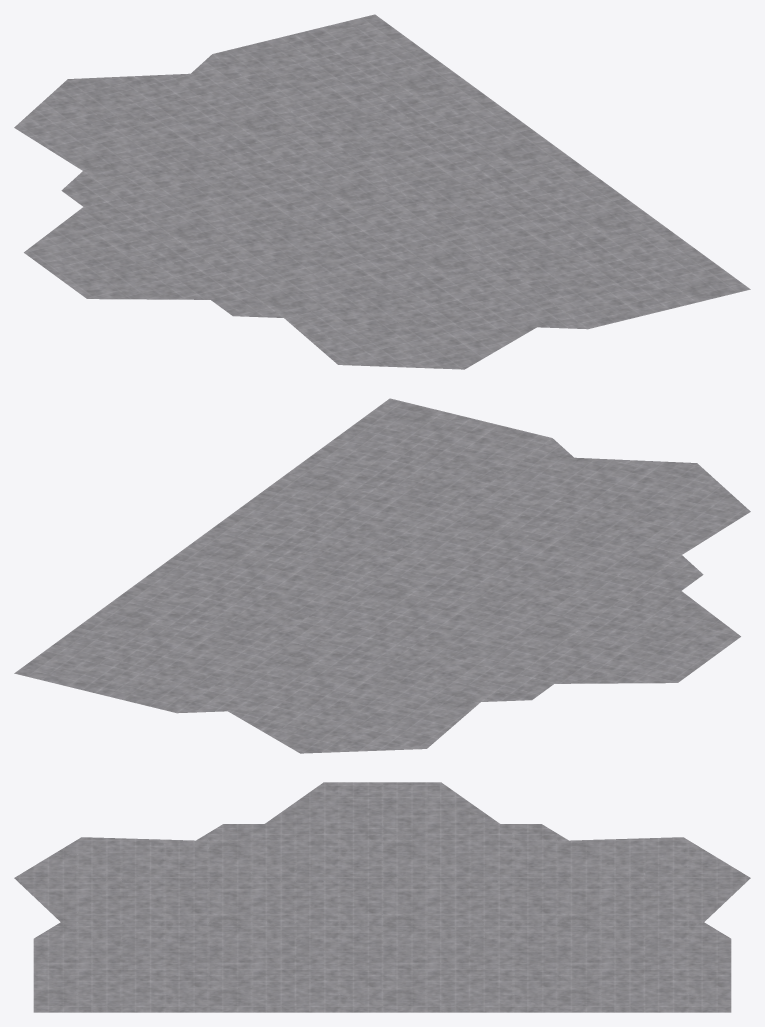
Rendered from Ambulatory_Outer_Floor.fbx.
3 renders of one model, top to bottom at view 1: azimuth 30°, elevation 25°; view 2: azimuth 150°, elevation 25°; view 3: azimuth 270°, elevation 25°, orthographic. The views are drawn at different scales.
Parts seen in each view (by area): view 1: Ambulatory_Outer_Floor; view 2: Ambulatory_Outer_Floor; view 3: Ambulatory_Outer_Floor.
Part boxes in pixels (box(x1,y1,x2,y2)): Ambulatory_Outer_Floor: box(14, 14, 750, 369); Ambulatory_Outer_Floor: box(14, 398, 750, 753); Ambulatory_Outer_Floor: box(14, 782, 750, 1012).
Bounding box in the file's own units: 18.72 × 25.34 × 5.72e-06.
